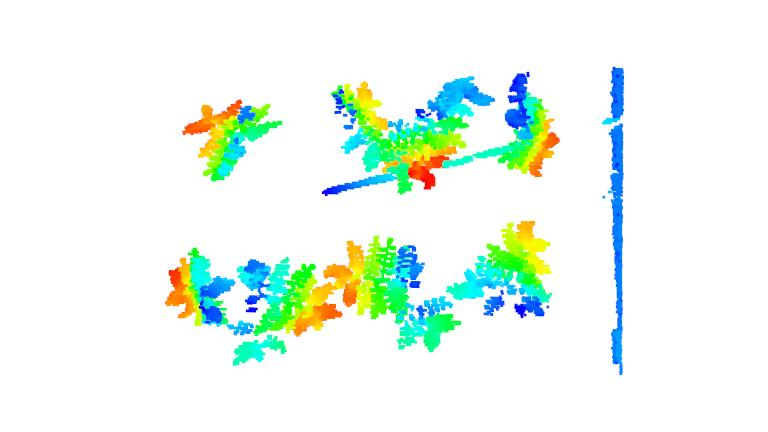chickpea: (321, 233, 462, 353), (232, 256, 340, 368), (399, 75, 494, 189), (449, 218, 556, 319), (330, 77, 413, 193), (180, 101, 281, 183), (500, 70, 562, 179), (158, 250, 233, 332)
